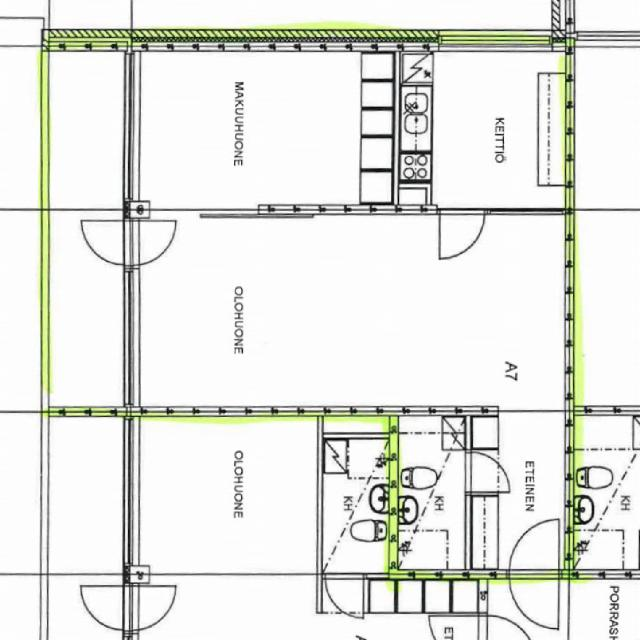door: (509, 520, 559, 580), (509, 570, 559, 630), (123, 221, 183, 265), (79, 221, 139, 265), (439, 208, 485, 261), (465, 452, 511, 492)
